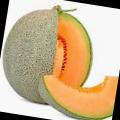Melon Ripe: (0, 0, 101, 110), (36, 65, 118, 120)
